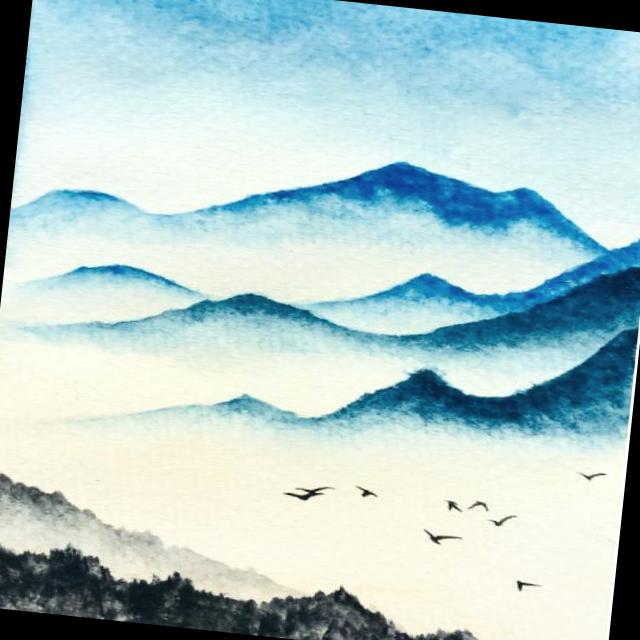bird: (414, 523, 466, 549), (502, 572, 544, 596), (482, 512, 522, 531), (572, 464, 608, 484), (351, 484, 393, 501), (292, 479, 334, 495), (276, 490, 326, 502), (466, 496, 492, 514), (444, 499, 466, 514)
